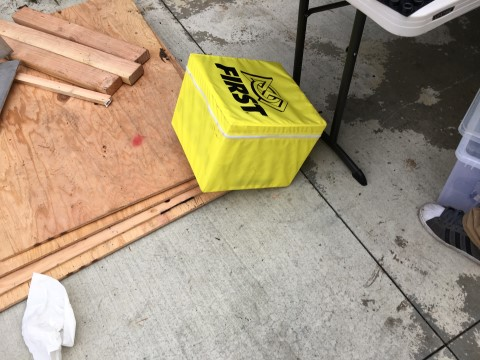cube: (171, 54, 327, 192)
